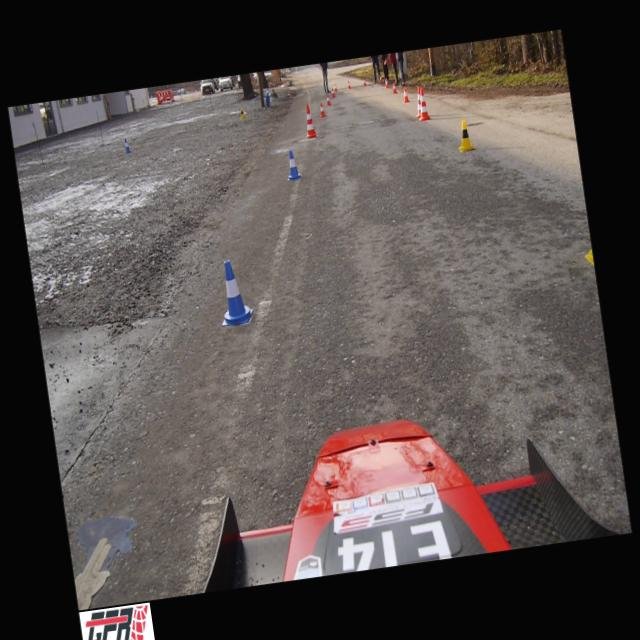blue_cone: (214, 258, 255, 326), (284, 150, 302, 180), (124, 138, 131, 152), (265, 88, 269, 96)
large_orange_cone: (302, 104, 317, 138), (416, 87, 430, 120), (413, 86, 425, 117)
orange_cone: (318, 102, 326, 116), (402, 88, 410, 102), (392, 82, 398, 94), (326, 94, 332, 105), (384, 78, 389, 88), (331, 88, 335, 98), (379, 74, 383, 84), (333, 84, 338, 92), (347, 80, 351, 88), (363, 78, 367, 86)
yellow_cone: (455, 118, 474, 152), (240, 108, 245, 119)
